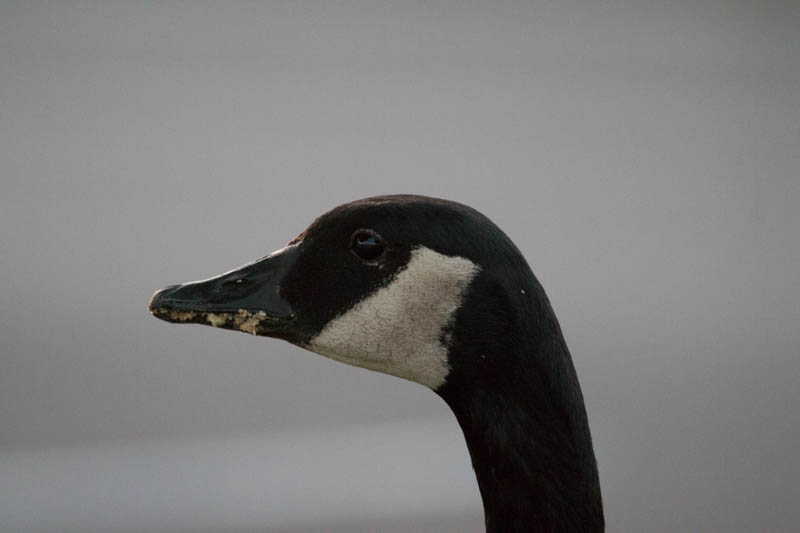goose-head: (148, 195, 581, 393)
